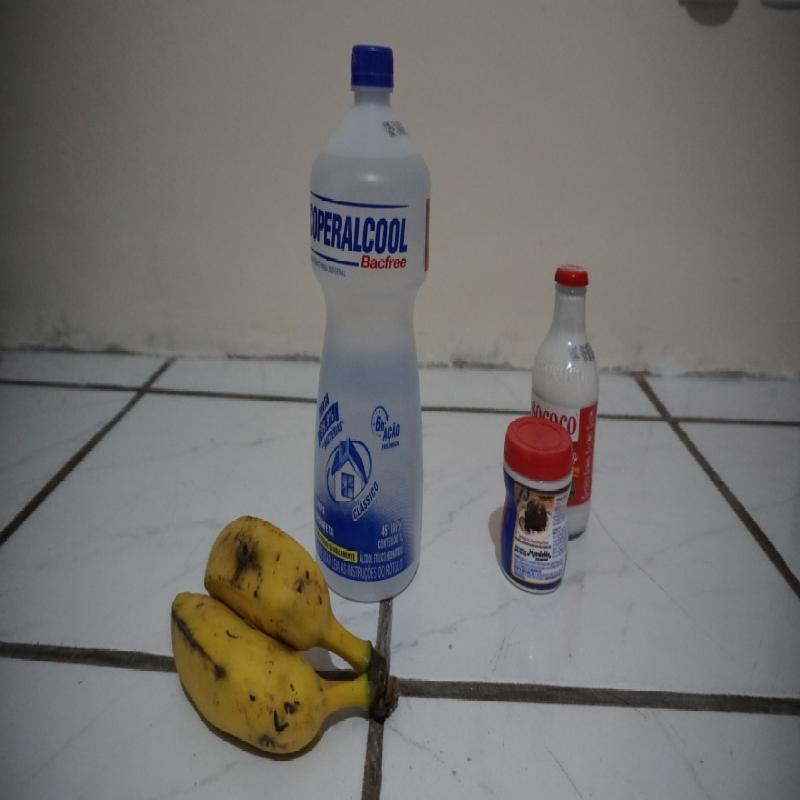Alcohol Bottle: (313, 45, 430, 515)
Banana: (169, 522, 392, 758)
Coconut Milk: (532, 261, 608, 420)
Yeast: (500, 424, 569, 592)
